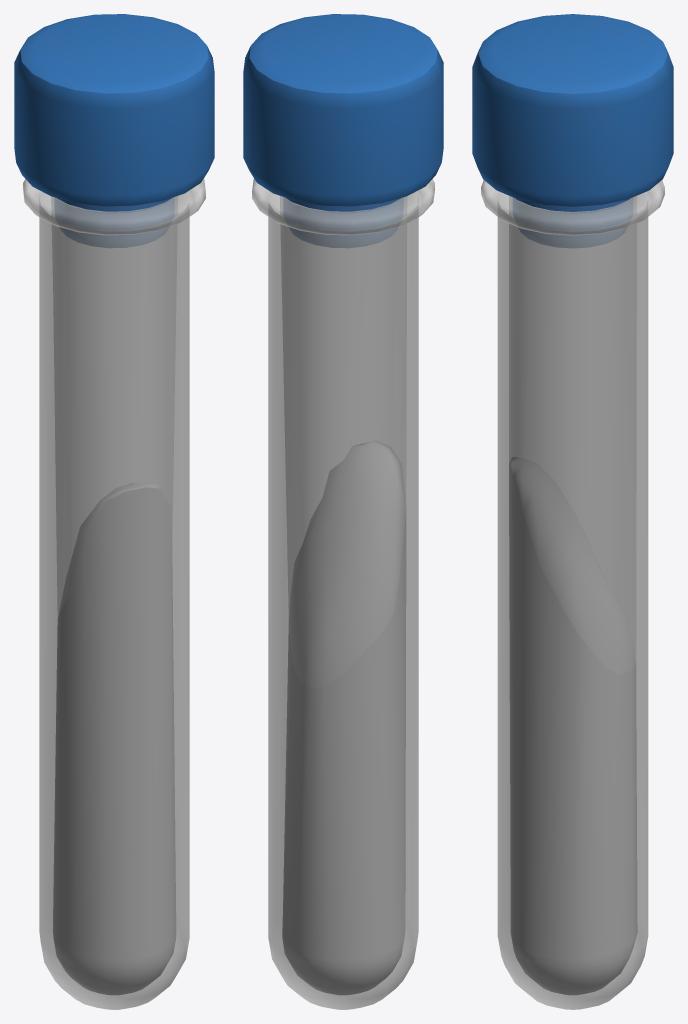
The model's file is SM_LIA.fbx.
3 views of the same model, side by side, from view 1: azimuth 30°, elevation 25°; view 2: azimuth 150°, elevation 25°; view 3: azimuth 270°, elevation 25° (orthographic).
Parts seen in each view (by area): view 1: polySurface36; view 2: polySurface36; view 3: polySurface36.
Boxes of the visible parts, <box> form: polySurface36: <box>14,14,214,1009</box>; polySurface36: <box>243,14,443,1009</box>; polySurface36: <box>472,14,673,1009</box>.
Bounding box in the file's own units: 2.96 × 15.49 × 2.96.
